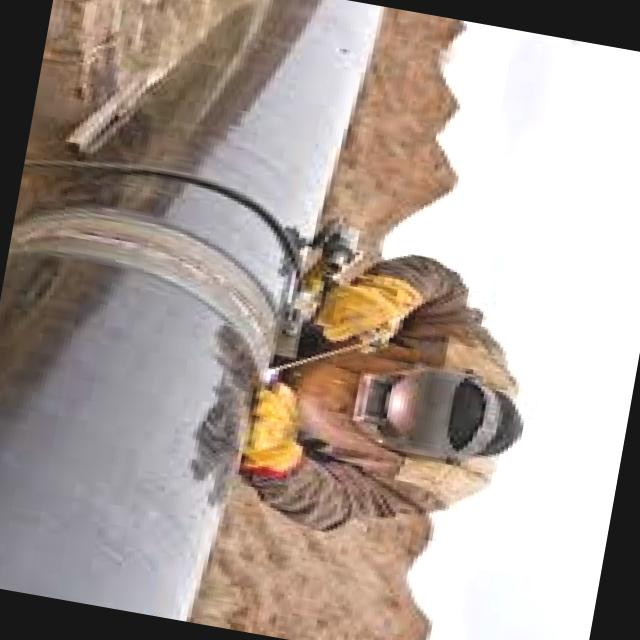gas: (0, 174, 294, 621), (100, 0, 381, 236)
